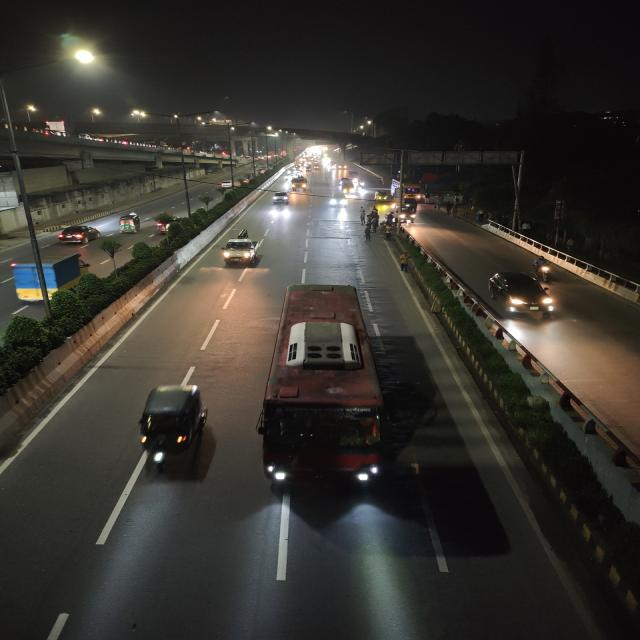bus: (255, 278, 386, 498)
car: (484, 269, 562, 322), (217, 227, 262, 270), (54, 222, 101, 245), (270, 190, 290, 206), (329, 193, 348, 209), (218, 179, 236, 189)
cng: (130, 379, 212, 476), (115, 209, 144, 235), (373, 188, 393, 203)
motorcycle: (531, 254, 558, 282)
pedestrian: (474, 209, 489, 227), (362, 224, 374, 242), (364, 222, 377, 238)
pickup_van: (399, 204, 418, 226)
truck: (5, 248, 94, 306), (290, 177, 309, 192)
